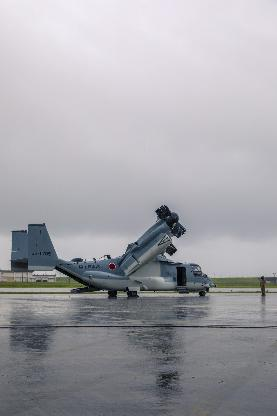Tornado: (7, 204, 216, 296)
